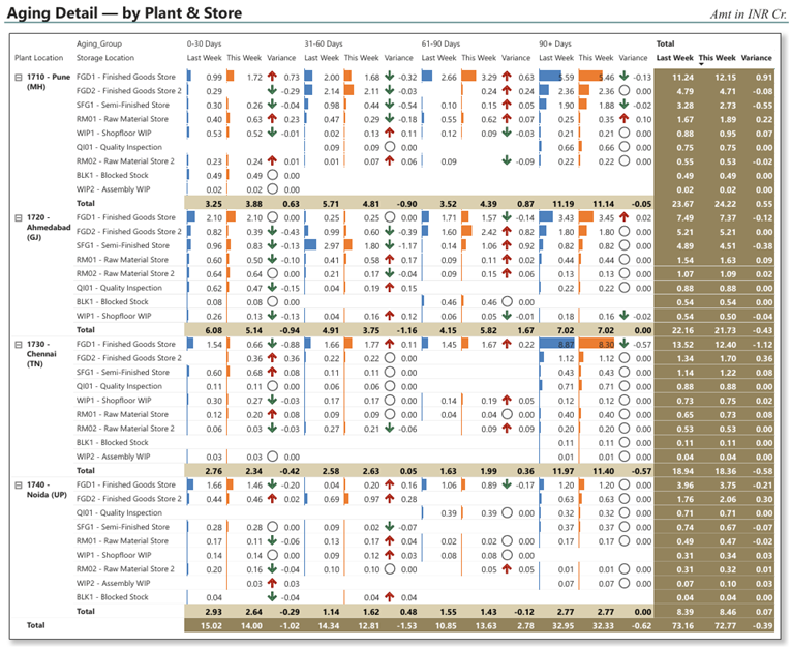

Layout of this report page (visuals, bound fields, positions):
{"tool":"powerbi","page":{"name":"Aging-Details","canvas":[1620,1335],"ordinal":1},"visuals":[{"type":"pivotTable","fields":{"Columns":["Variance_Analysis.Aging_Group"],"Rows":["Variance_Analysis.Plant Location","Variance_Analysis.Storage Location"],"Values":["Sum(Variance_Analysis.Last Week Amount)","Sum(Variance_Analysis.This Week Amount)","Sum(Variance_Analysis.Variance)"]},"box":[10,71.7,1591.7,1248.3],"z":1000},{"type":"textbox","box":[0,0,810,56.7],"z":2000},{"type":"textbox","box":[1430,11.7,190,45],"z":3000},{"type":"shape","box":[0,0,1620,97.5],"z":5000}]}

Visuals, with their boxes in screenshot pixels (x1, y1, x2, y2), scaled from the page's 1620x1335 canvas onto the 789x648 screenshot:
pivotTable - Variance_Analysis.Aging_Group x Variance_Analysis.Plant Location: (5,35,780,641)
textbox: (0,0,394,28)
textbox: (696,6,788,28)
shape: (0,0,788,47)
